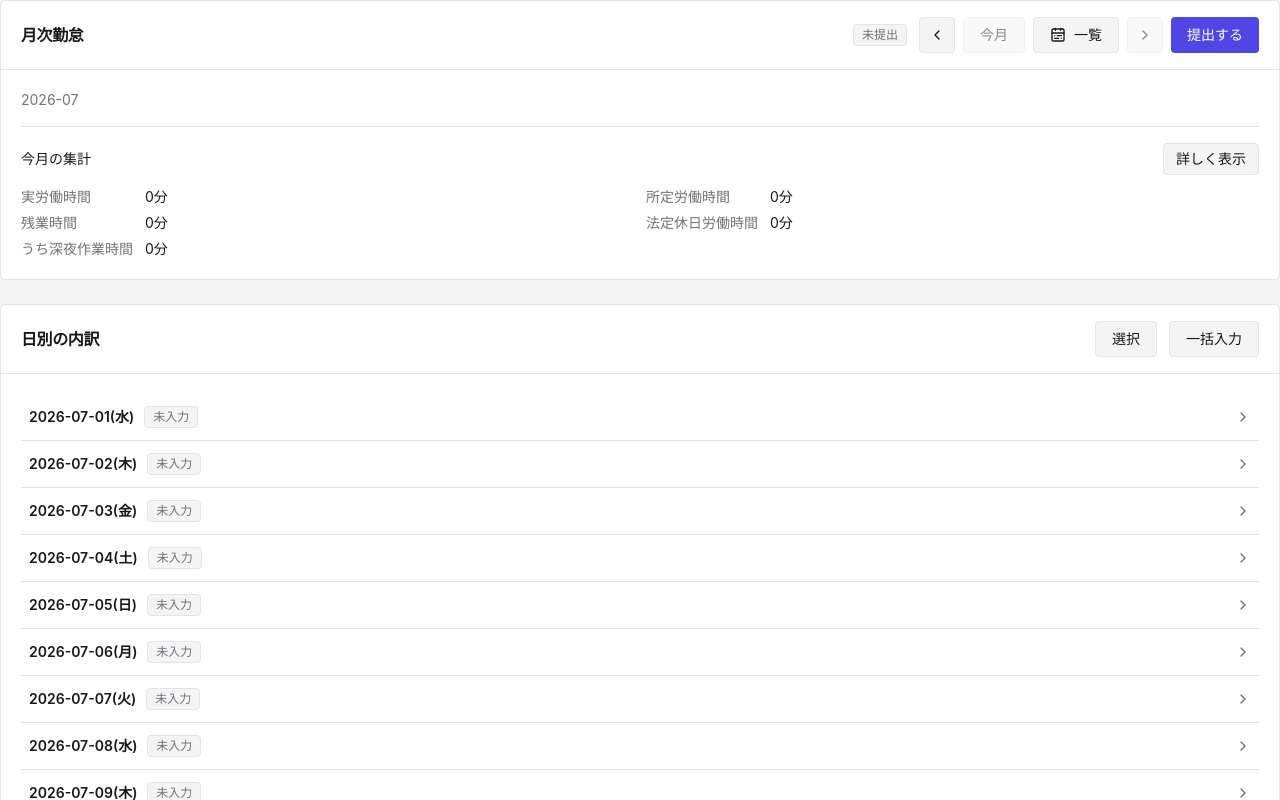
AttendanceMonthDetailPage › disables the confirm button in the submit modal until an approver is picked
The width and height of the screenshot is (1280, 800).
Click the button "提出する" at point(1215, 35), box [1171,17,1259,53]
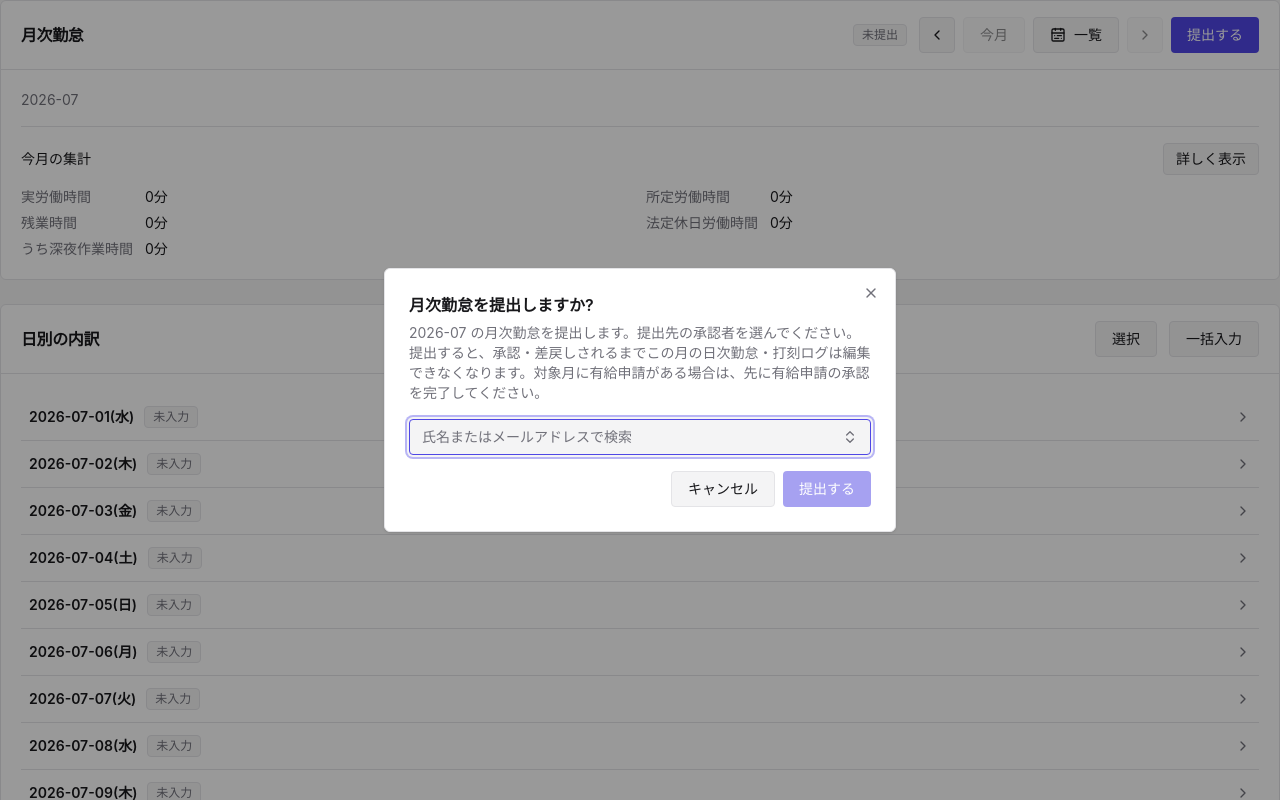
expect the button "提出する" is disabled: met, box [783,471,871,507]
